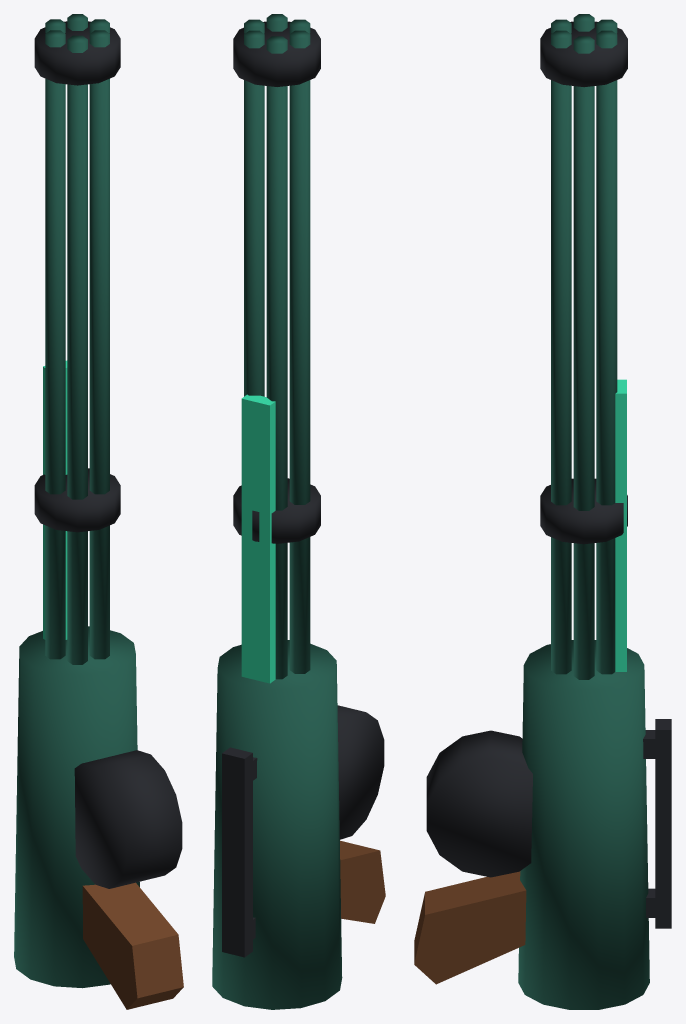
File: vortex_beater.glb
The picture shows the model from 3 angles, left to right: view 1: azimuth 30°, elevation 25°; view 2: azimuth 150°, elevation 25°; view 3: azimuth 270°, elevation 25°; orthographic projection. The views are drawn at different scales.
Parts seen in each view (by area): view 1: vortex_beater_v0; view 2: vortex_beater_v0; view 3: vortex_beater_v0.
Part boxes in pixels (x1=…): vortex_beater_v0: x1=14, y1=14, x2=183, y2=1009; vortex_beater_v0: x1=212, y1=14, x2=385, y2=1009; vortex_beater_v0: x1=414, y1=14, x2=671, y2=1009.
Bounding box in the file's own units: 0.117 × 0.96 × 0.235.
